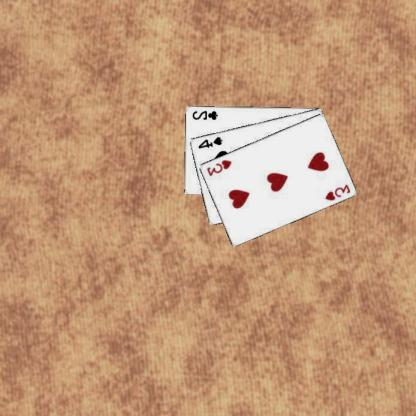2C: (191, 108, 221, 120)
3H: (324, 181, 353, 202), (206, 157, 235, 177)
4S: (197, 134, 225, 149)
